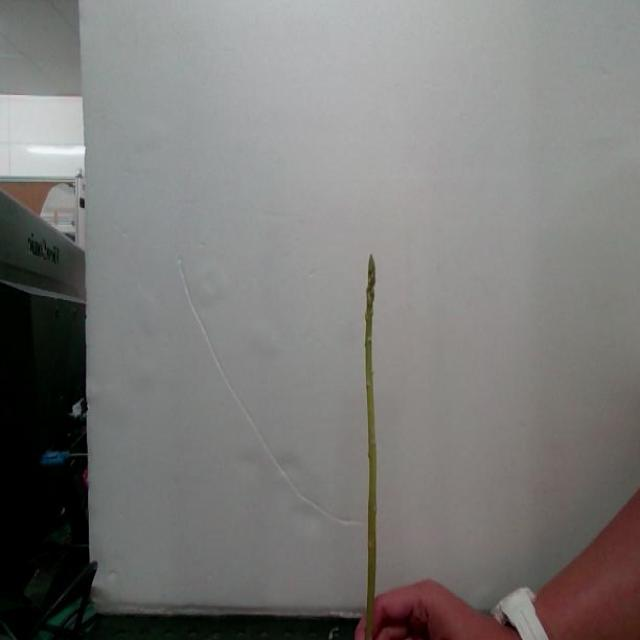aspargus: (365, 257, 379, 634)
